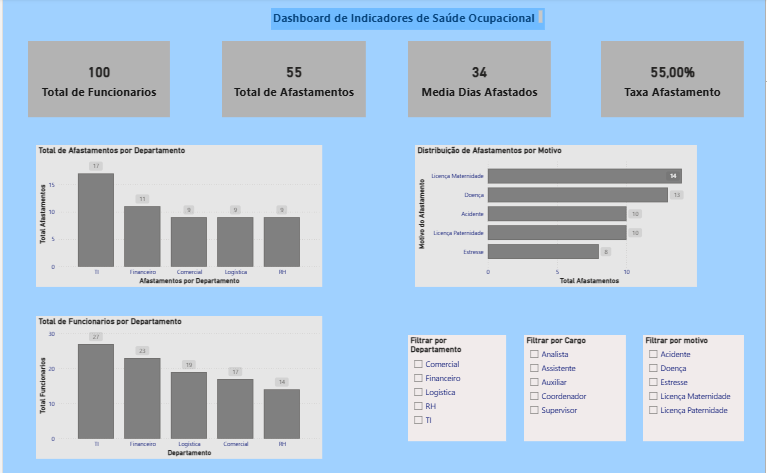

The dashboard page shown, as its layout file describes it:
{"tool":"powerbi","page":{"name":"Página 2","canvas":[1600,1000],"ordinal":0},"visuals":[{"type":"card","fields":{"Values":["Base_RH.Total Funcionarios"]},"box":[52.5,90.3,298.2,159.6],"z":0},{"type":"card","fields":{"Values":["Base_RH.Total Afastamentos"]},"box":[459.8,90.3,302.4,159.6],"z":1000},{"type":"card","fields":{"Values":["Base_RH.Media Dias Afastados"]},"box":[850.4,90.3,300.3,159.6],"z":2000},{"type":"card","fields":{"Values":["Base_RH.Taxa Afastamento"]},"box":[1255.6,90.3,300.3,159.6],"z":3000},{"type":"columnChart","title":"Total de Afastamentos por Departamento","fields":{"Category":["Base_RH.Departamento"],"Y":["Base_RH.Total Afastamentos"]},"box":[69.3,308.7,600.5,298.2],"z":4000},{"type":"barChart","title":"Distribuição de Afastamentos por Motivo","fields":{"Category":["Base_RH.Motivo_Afastamento"],"Y":["Base_RH.Total Afastamentos"]},"box":[865.1,308.7,592.1,298.2],"z":5000},{"type":"columnChart","title":"Total de Funcionarios por Departamento","fields":{"Category":["Base_RH.Departamento"],"Y":["Base_RH.Total Funcionarios"]},"box":[69.3,667.7,600.5,300.3],"z":6000},{"type":"slicer","title":"Filtrar por Departamento","fields":{"Values":["Base_RH.Departamento"]},"box":[850.4,707.6,205.8,222.6],"z":7000},{"type":"slicer","title":"Filtrar por Cargo","fields":{"Values":["Base_RH.Cargo"]},"box":[1094,707.6,214.2,222.6],"z":8000},{"type":"textbox","box":[562.7,21,575.3,46.2],"z":9000},{"type":"slicer","title":"Filtrar por motivo","fields":{"Values":["Base_RH.Motivo_Afastamento"]},"box":[1343.8,707.6,212.1,222.6],"z":10000}]}

Visuals, with their boxes in screenshot pixels (x1, y1, x2, y2), scaled from the page's 1600x1000 canvas onto the 767x473 screenshot:
card - Base_RH.Total Funcionarios: [25,43,168,118]
card - Base_RH.Total Afastamentos: [220,43,365,118]
card - Base_RH.Media Dias Afastados: [408,43,552,118]
card - Base_RH.Taxa Afastamento: [602,43,746,118]
"Total de Afastamentos por Departamento" columnChart: [33,146,321,287]
"Distribuição de Afastamentos por Motivo" barChart: [415,146,699,287]
"Total de Funcionarios por Departamento" columnChart: [33,316,321,458]
"Filtrar por Departamento" slicer: [408,335,506,440]
"Filtrar por Cargo" slicer: [524,335,627,440]
textbox: [270,10,546,32]
"Filtrar por motivo" slicer: [644,335,746,440]
